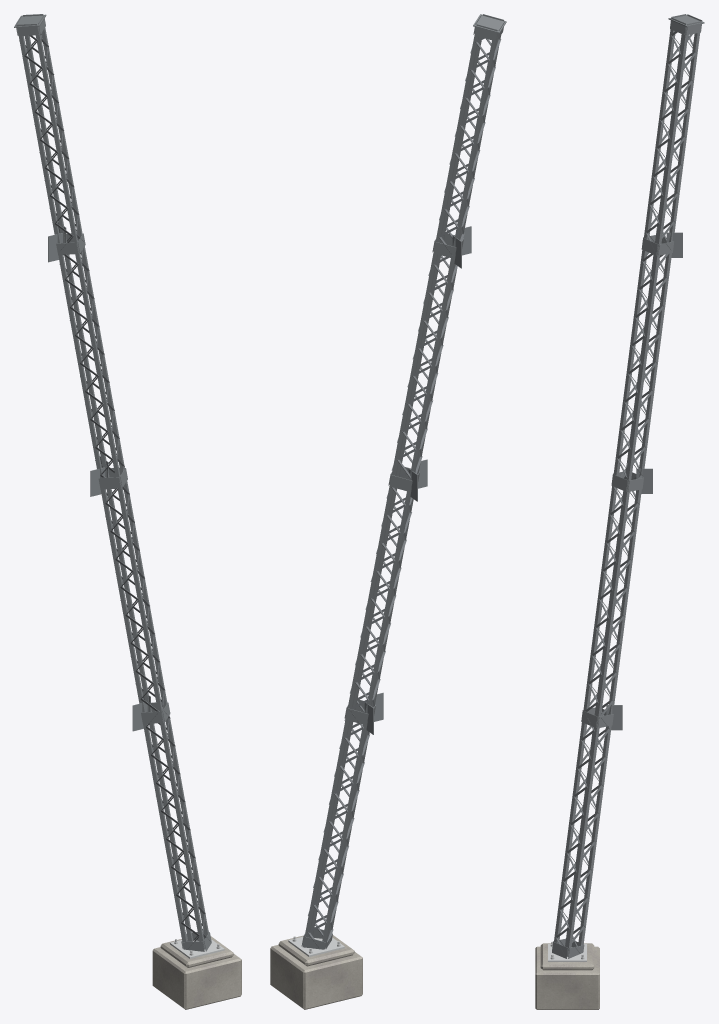
The model's file is leg.glb.
3 renders of one model, left to right at view 1: azimuth 30°, elevation 25°; view 2: azimuth 210°, elevation 25°; view 3: azimuth 270°, elevation 25°, orthographic. The views are drawn at different scales.
Visible parts, largest first — view 1: leg_steel, leg_steel_d, leg_concrete; view 2: leg_steel, leg_steel_d, leg_concrete; view 3: leg_steel, leg_steel_d, leg_concrete.
Part boxes in pixels (x1,y1,x2,y2): leg_steel: (14, 14, 211, 951); leg_steel_d: (19, 32, 210, 949); leg_concrete: (152, 936, 241, 1009); leg_steel: (301, 14, 506, 949); leg_steel_d: (308, 36, 501, 948); leg_concrete: (270, 935, 362, 1009); leg_steel: (552, 14, 704, 958); leg_steel_d: (555, 31, 696, 955); leg_concrete: (535, 943, 599, 1009).
Size of the model in its own units: 3.92 by 23.7 by 3.92.
Materials: 4 (1 with a texture image).
